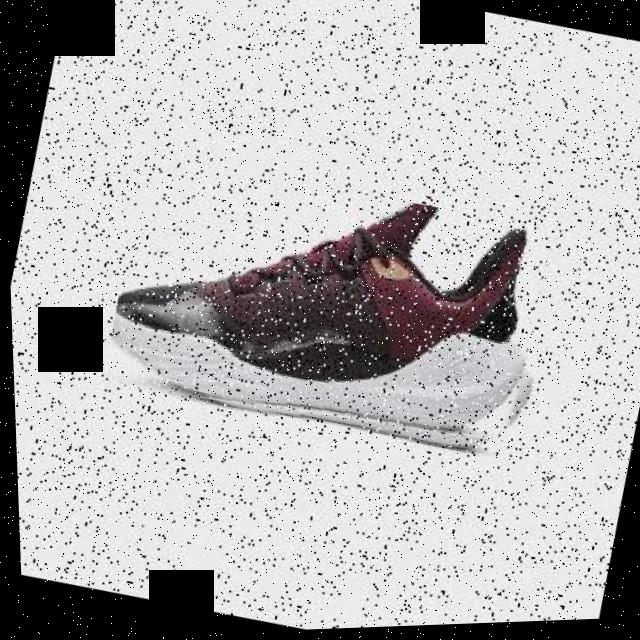shoe: (92, 140, 566, 479)
